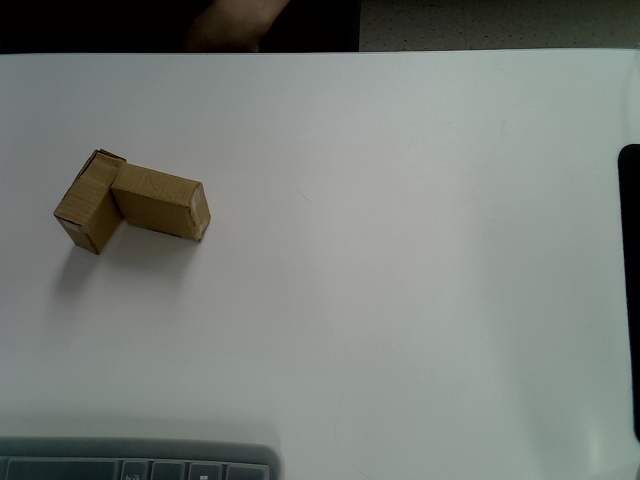normal: (111, 162, 213, 243), (53, 149, 129, 255)
